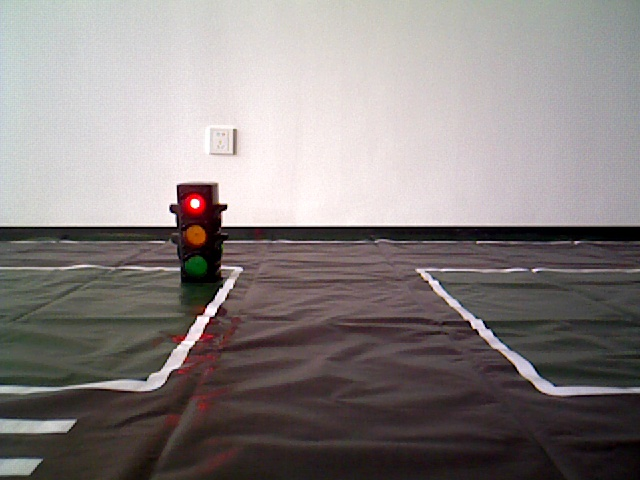red: (178, 184, 217, 283)
